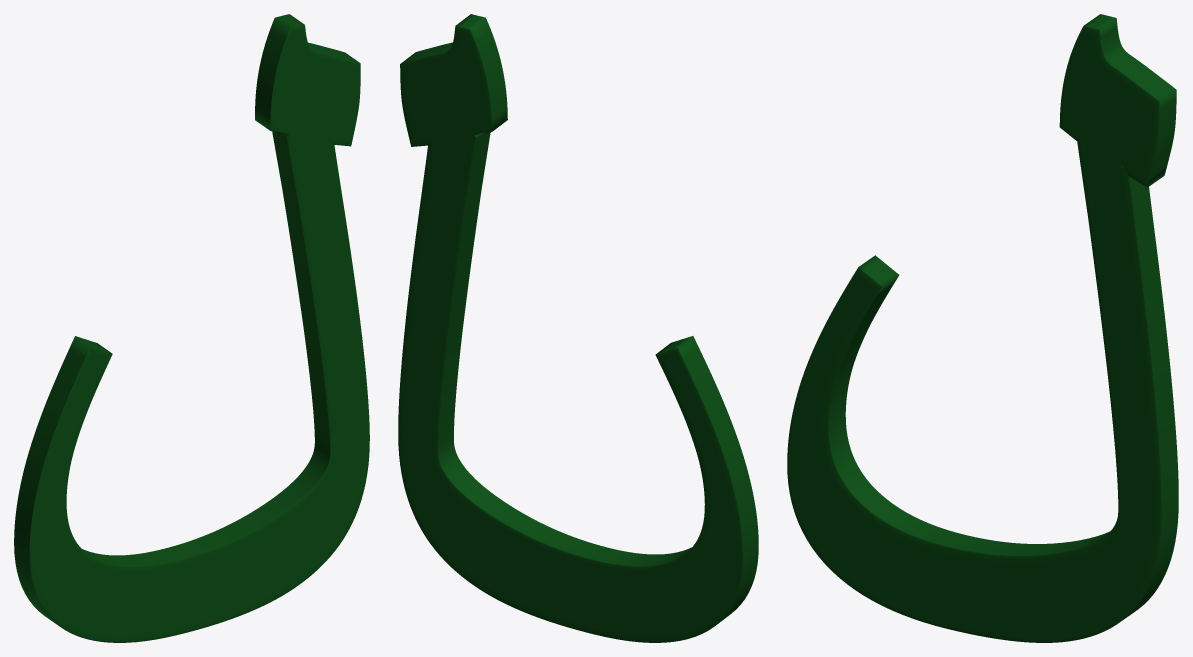
File: Lam.obj
The picture shows the model from 3 angles, left to right: view 1: azimuth 30°, elevation 25°; view 2: azimuth 150°, elevation 25°; view 3: azimuth 330°, elevation 25°; orthographic projection. The views are drawn at different scales.
Visible parts, largest first — view 1: Curve.022; view 2: Curve.022; view 3: Curve.022.
Part boxes in pixels (box(x1,y1,x2,y2)): Curve.022: box(14, 14, 369, 642); Curve.022: box(398, 14, 758, 642); Curve.022: box(787, 14, 1178, 642).
Size of the model in its own units: 3.13 by 5.05 by 0.3441.
